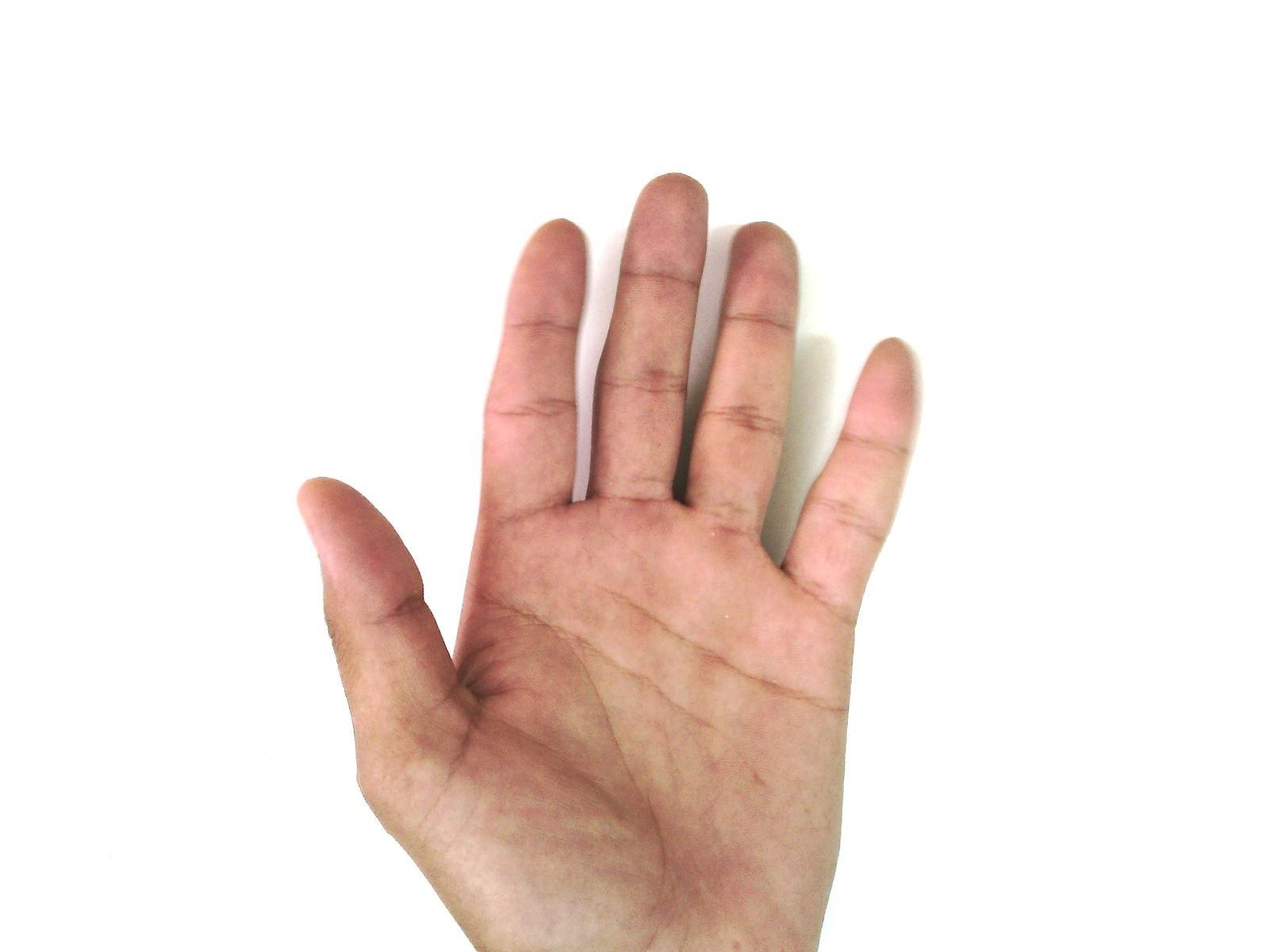open_palm: (295, 171, 926, 952)
